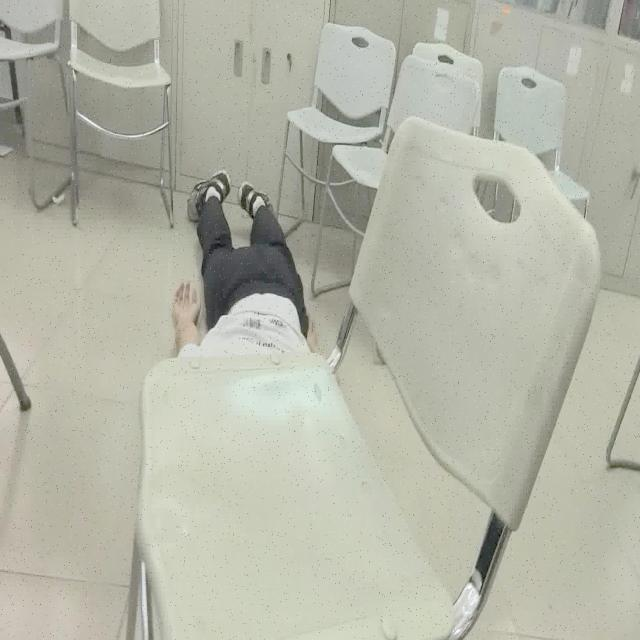fall: (168, 167, 321, 355)
